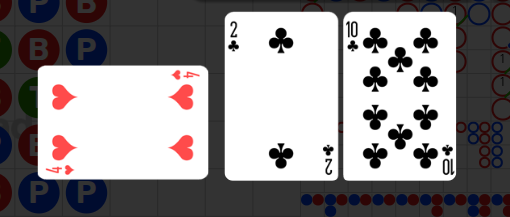10C: (345, 18, 360, 53)
4H: (44, 162, 75, 175), (169, 68, 200, 81)
